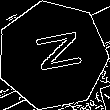N_W: (24, 31, 82, 80)
